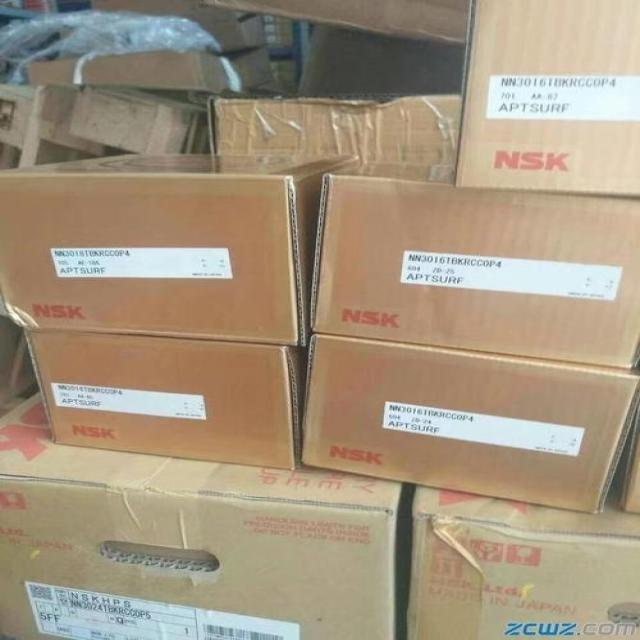box: (0, 391, 406, 640), (0, 153, 360, 347), (311, 160, 640, 371), (302, 336, 640, 513), (24, 332, 305, 471), (453, 0, 640, 199), (407, 481, 640, 640), (207, 94, 461, 165), (620, 410, 640, 512)
